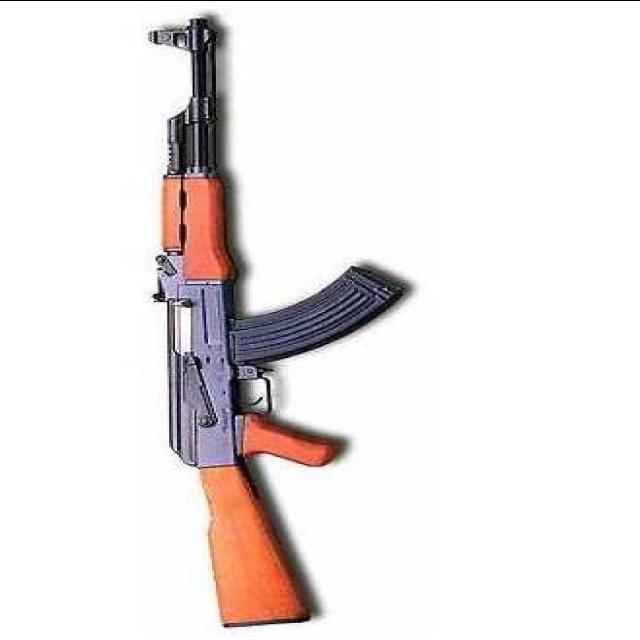heavyweapon: (135, 10, 427, 632)
